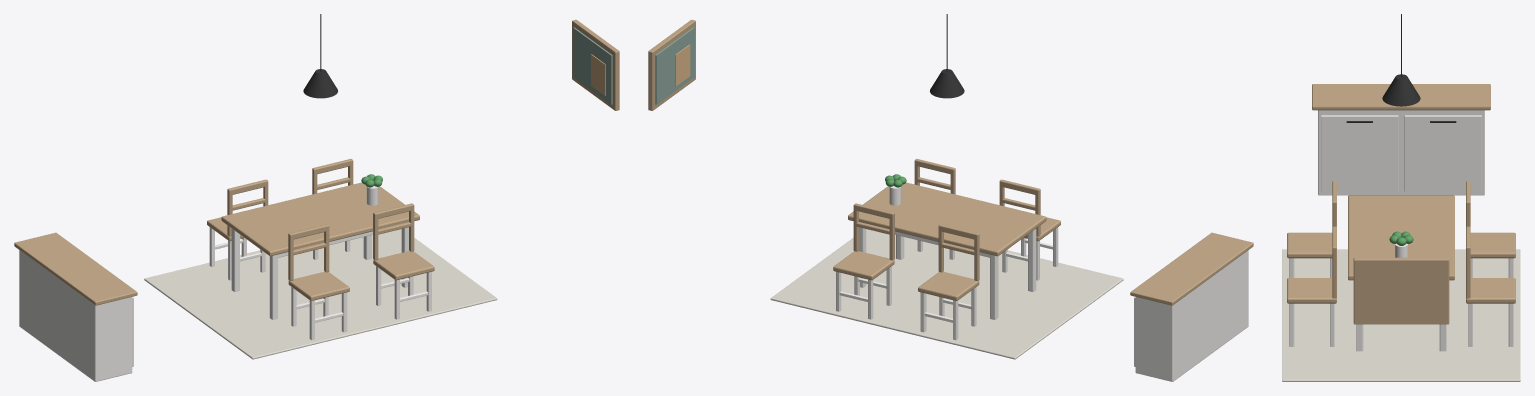
File: DiningSet.fbx
3 views of the same model, side by side, from view 1: azimuth 30°, elevation 25°; view 2: azimuth 150°, elevation 25°; view 3: azimuth 270°, elevation 25° (orthographic). The views are drawn at different scales.
Visible parts, largest first — view 1: DiningRug, Sideboard, DiningTableTop, SideboardTop, Chair_NorthLeft, Chair_NorthRight, Chair_SouthLeft, WallArtCanvas, WallArtFrame, Chair_SouthRight, DiningPendantShade, DiningTableLeg (+1 smaller); view 2: DiningRug, Sideboard, DiningTableTop, SideboardTop, Chair_SouthLeft, Chair_SouthRight, Chair_NorthLeft, WallArtCanvas, WallArtFrame, Chair_NorthRight, DiningPendantShade, DiningTableLeg.001 (+2 smaller); view 3: DiningRug, DiningTableTop, WallArtFrame, SideboardDoorA, SideboardDoorB, SideboardTop, Sideboard, Chair_NorthRight, Chair_SouthRight, Chair_NorthLeft, Chair_SouthLeft, DiningPendantShade (+2 smaller).
Boxes of the visible parts, bbox=[...] form: DiningRug: bbox=[144, 229, 497, 359]; Sideboard: bbox=[19, 250, 132, 381]; DiningTableTop: bbox=[221, 182, 419, 256]; SideboardTop: bbox=[14, 232, 137, 305]; Chair_NorthLeft: bbox=[288, 224, 349, 340]; Chair_NorthRight: bbox=[373, 203, 434, 319]; Chair_SouthLeft: bbox=[207, 179, 268, 280]; WallArtCanvas: bbox=[573, 27, 612, 104]; WallArtFrame: bbox=[572, 19, 619, 110]; Chair_SouthRight: bbox=[312, 159, 353, 259]; DiningPendantShade: bbox=[303, 69, 337, 98]; DiningTableLeg: bbox=[269, 254, 277, 319]; DiningRug: bbox=[770, 229, 1123, 359]; Sideboard: bbox=[1135, 250, 1248, 381]; DiningTableTop: bbox=[848, 182, 1046, 256]; SideboardTop: bbox=[1130, 232, 1253, 305]; Chair_SouthLeft: bbox=[918, 224, 979, 340]; Chair_SouthRight: bbox=[833, 203, 894, 319]; Chair_NorthLeft: bbox=[999, 179, 1060, 280]; WallArtCanvas: bbox=[655, 27, 694, 104]; WallArtFrame: bbox=[648, 19, 695, 110]; Chair_NorthRight: bbox=[914, 159, 955, 259]; DiningPendantShade: bbox=[930, 69, 964, 98]; DiningTableLeg.001: bbox=[990, 254, 998, 319]; DiningRug: bbox=[1282, 249, 1520, 381]; DiningTableTop: bbox=[1348, 195, 1454, 280]; WallArtFrame: bbox=[1353, 257, 1449, 324]; SideboardDoorA: bbox=[1321, 115, 1398, 191]; SideboardDoorB: bbox=[1404, 115, 1481, 191]; SideboardTop: bbox=[1312, 84, 1490, 110]; Sideboard: bbox=[1318, 110, 1484, 195]; Chair_NorthRight: bbox=[1287, 226, 1336, 346]; Chair_SouthRight: bbox=[1466, 226, 1515, 346]; Chair_NorthLeft: bbox=[1287, 181, 1336, 277]; Chair_SouthLeft: bbox=[1466, 181, 1515, 277]; DiningPendantShade: bbox=[1382, 74, 1420, 106].
Size of the model in its own units: 5.77 by 2.8 by 2.
